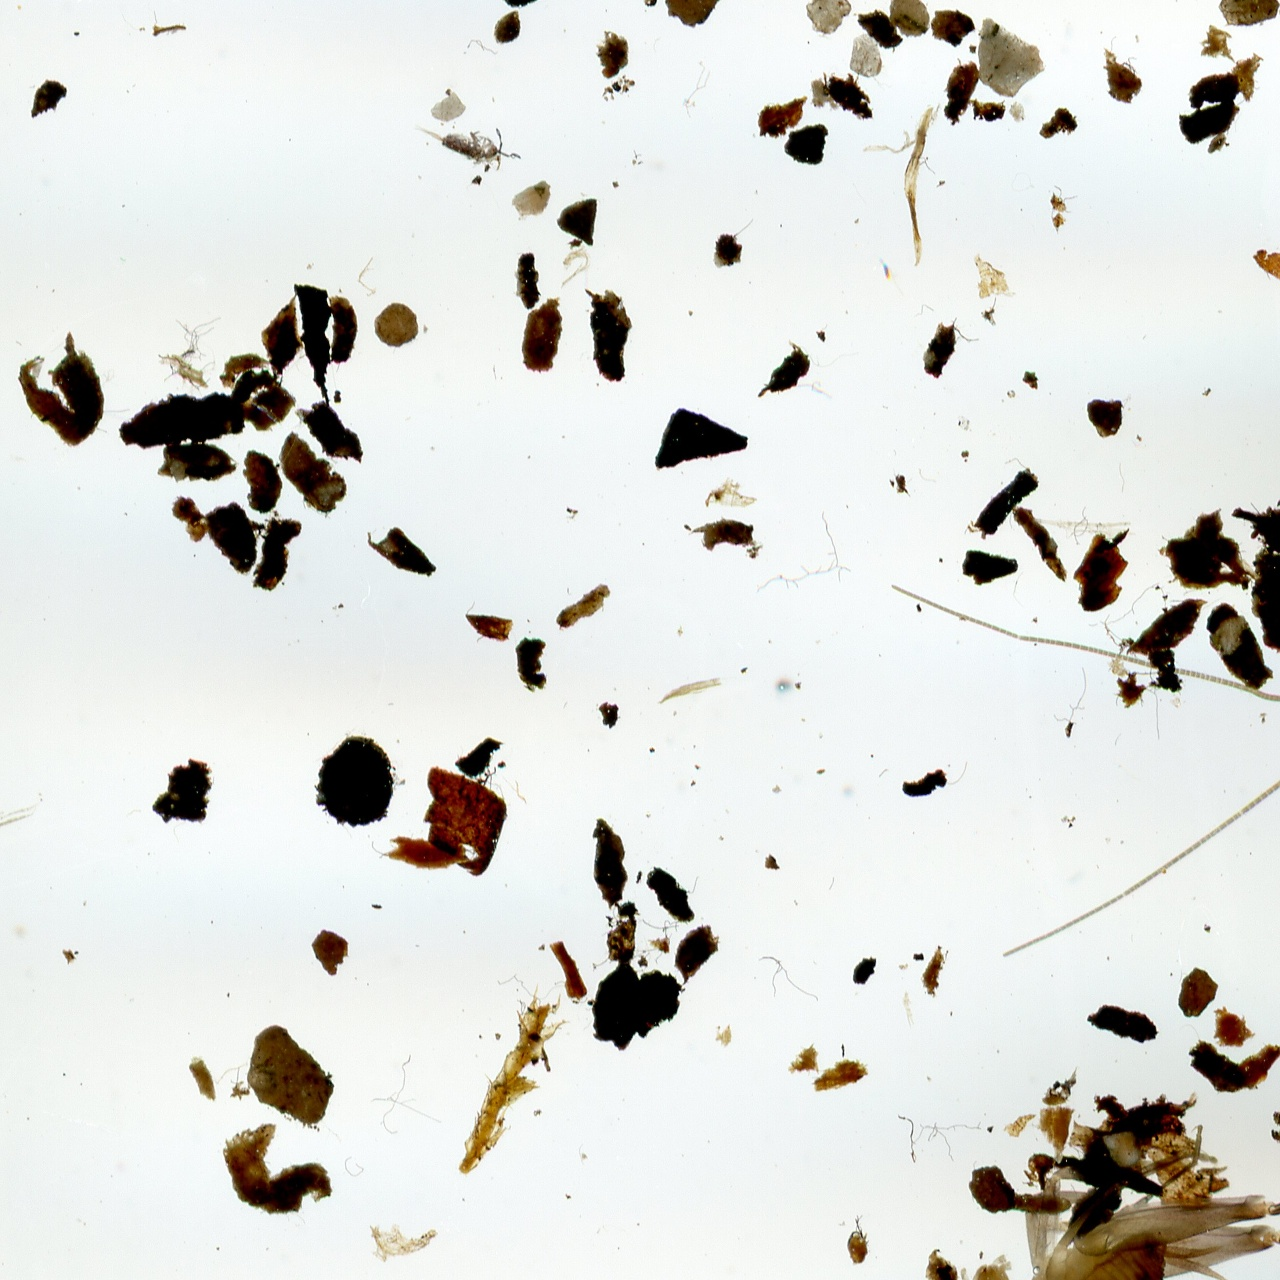arthropod: (411, 819, 1280, 1280), (816, 216, 1280, 982), (406, 100, 531, 182)
